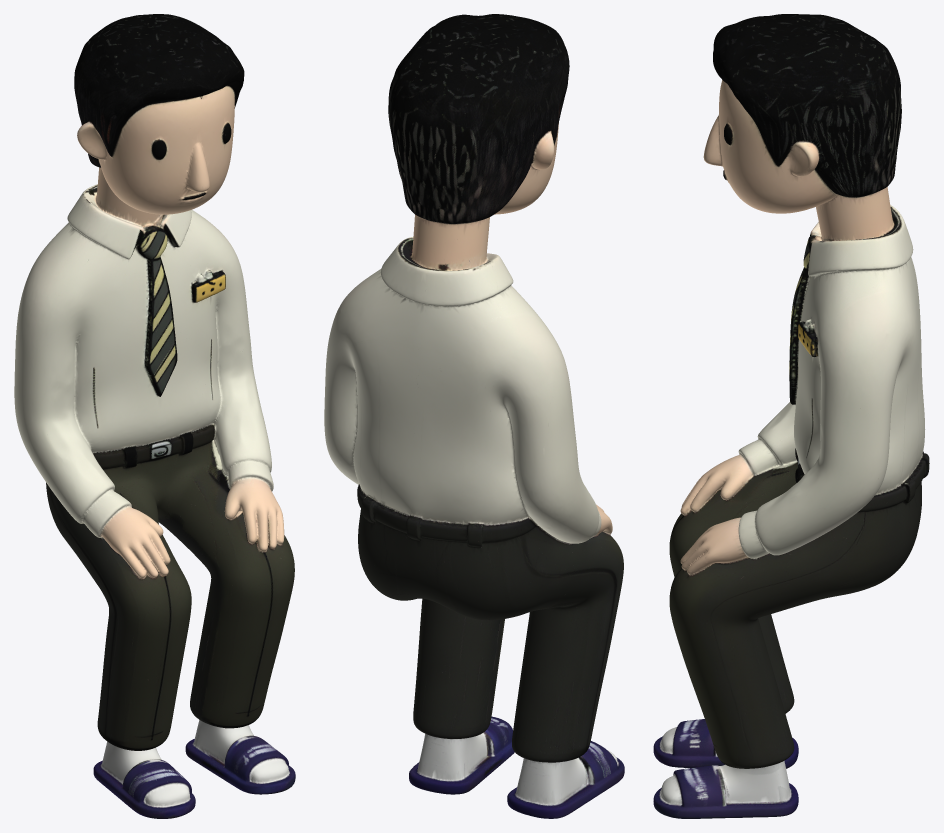
Rendered from student.fbx.
3 renders of one model, left to right at view 1: azimuth 30°, elevation 25°; view 2: azimuth 150°, elevation 25°; view 3: azimuth 270°, elevation 25°, orthographic. The views are drawn at different scales.
Visible parts, largest first — view 1: Mesh_0; view 2: Mesh_0; view 3: Mesh_0.
Boxes of the visible parts, x1,y1,x2,y2 form: Mesh_0: (14,14,295,818); Mesh_0: (324,14,624,818); Mesh_0: (653,14,929,818).
Size of the model in its own units: 61.86 by 190 by 63.
Materials: 1 (1 with a texture image).
